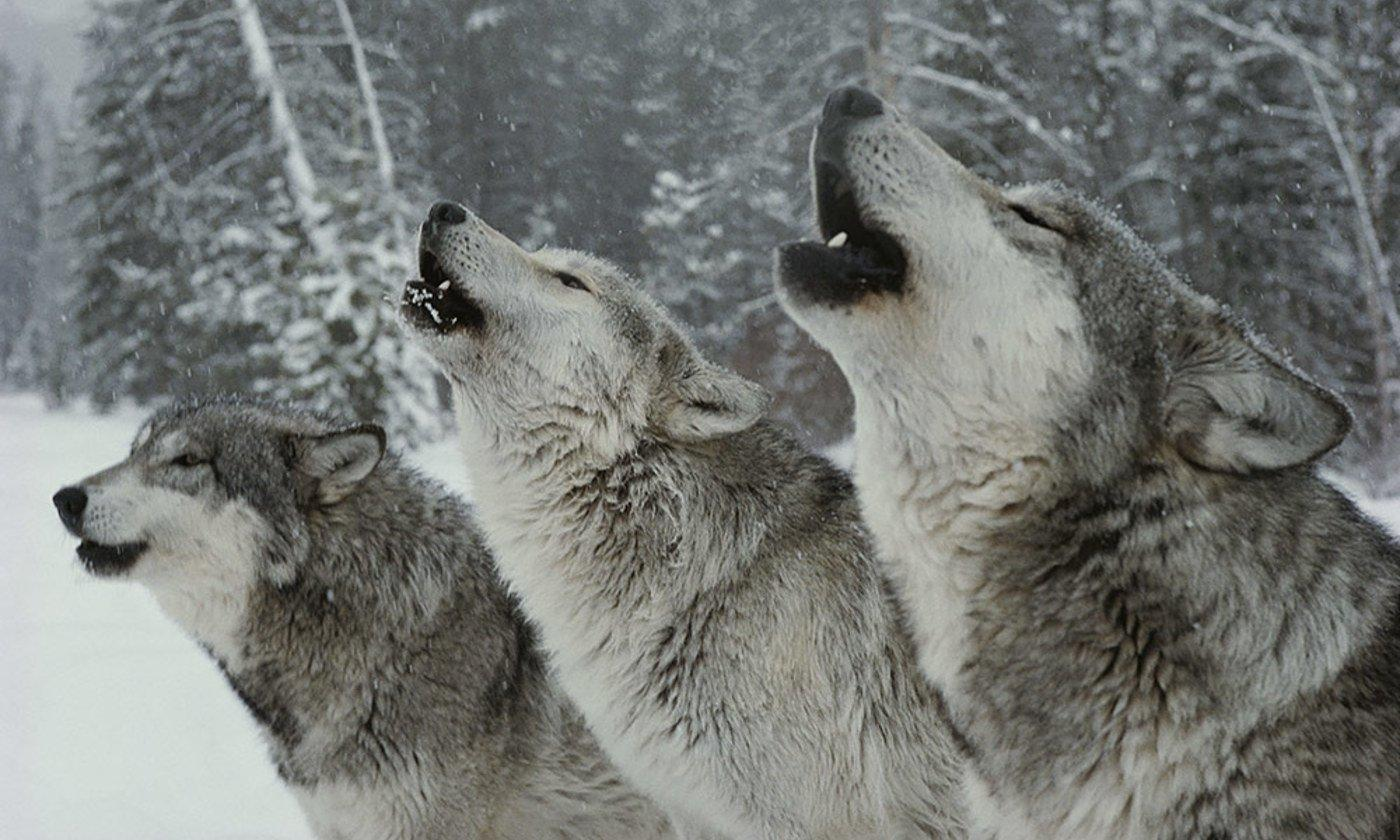Wolf: (775, 87, 1399, 839), (399, 203, 974, 839), (54, 398, 684, 839)
